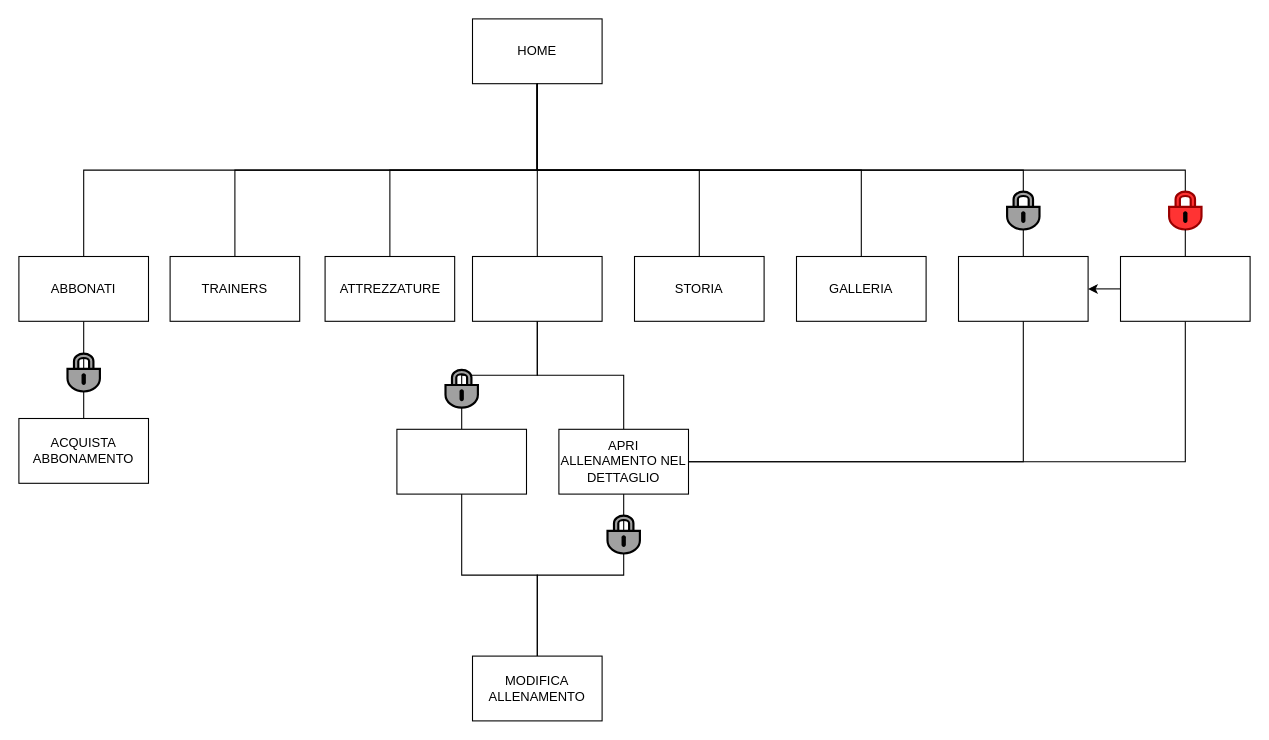
Some shapes in this 1269 by 740 pixel diagram are drawn without their labels. The centre of each missing label's shape, as x and y in pixels:
"ALLENAMENTI" belongs at [536,288].
"AREA PERSONALE ADMIN" belongs at [1184,288].
"AREAPERSONALE UTENTE" belongs at [1022,288].
"CREA ALLENAMENTO" belongs at [461,461].
